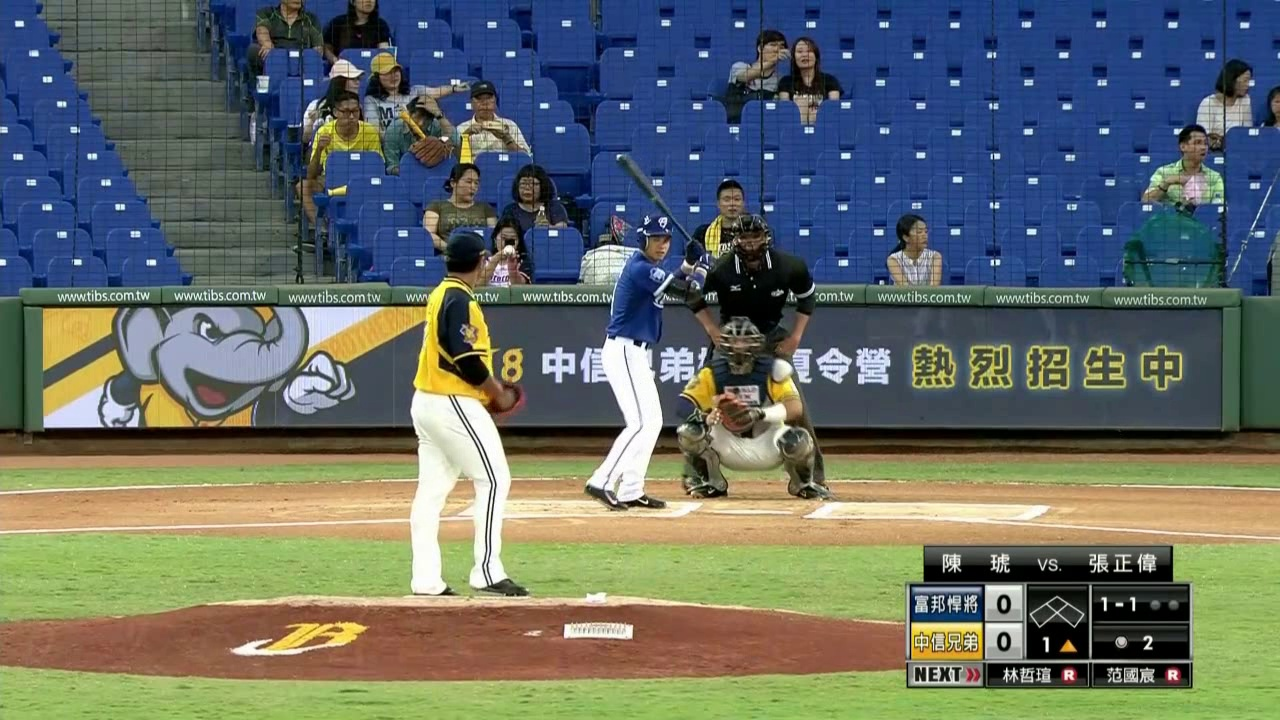ball: (507, 391, 514, 400)
base: (1023, 591, 1088, 632)
bat: (619, 156, 710, 263)
out: (1147, 588, 1189, 617)
score1: (990, 589, 1024, 617)
score2: (991, 621, 1020, 660)
session: (1029, 634, 1087, 657)
strikeball: (1096, 589, 1141, 617)
total: (1109, 629, 1159, 654)
